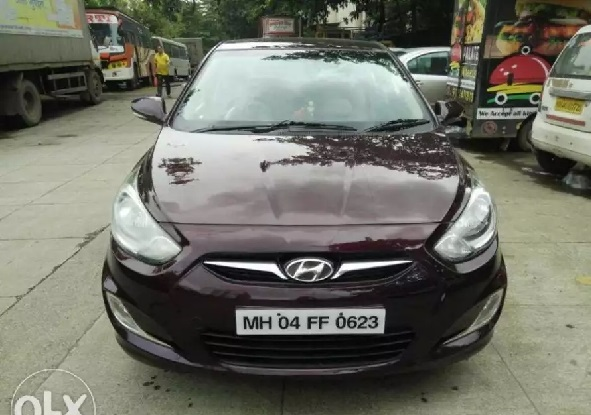licenseplate: (235, 304, 387, 335)
